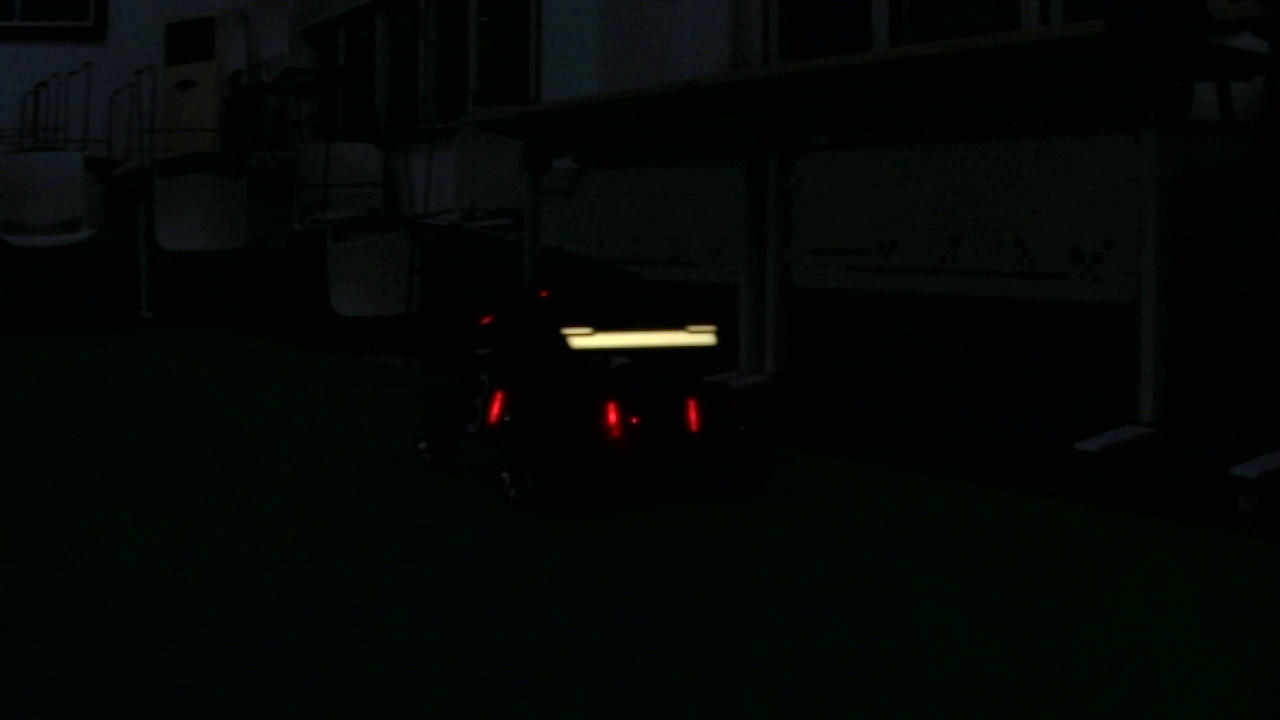lamp: (682, 397, 700, 435), (485, 391, 505, 425), (605, 397, 620, 431)
pair1: (602, 392, 700, 438)
